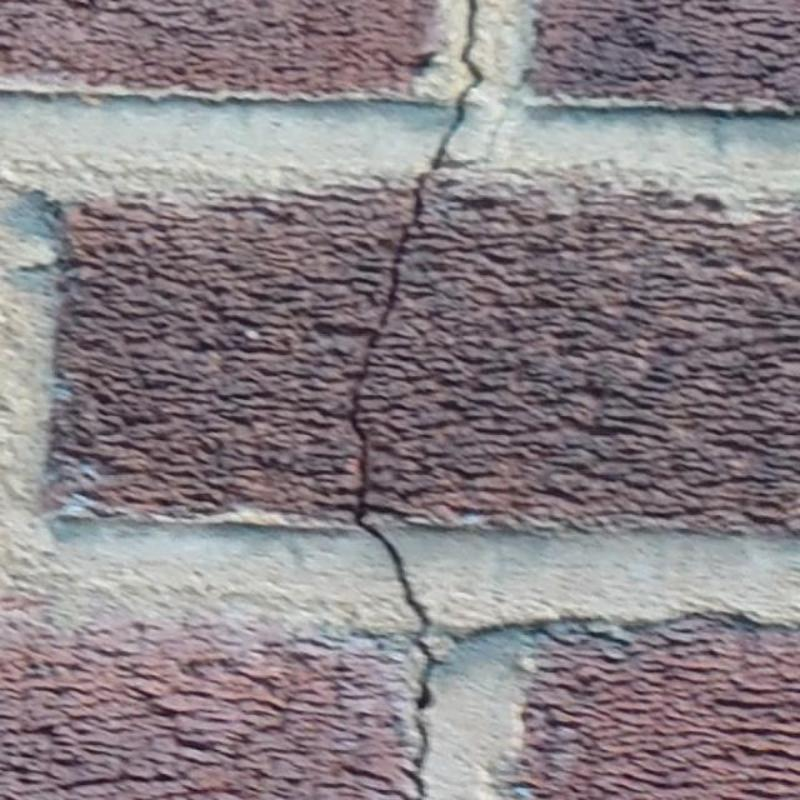crack: (345, 172, 433, 626), (431, 0, 491, 169), (399, 636, 455, 667), (410, 720, 431, 770), (413, 664, 432, 711)
